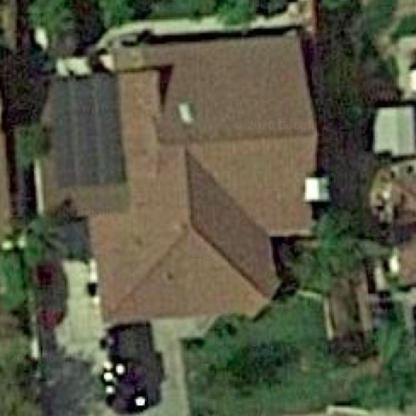car: (101, 316, 161, 411)
solar_panel: (45, 71, 133, 197)
